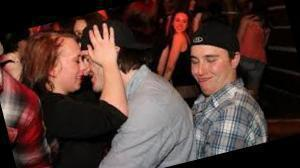Drunk: (190, 48, 226, 92)
